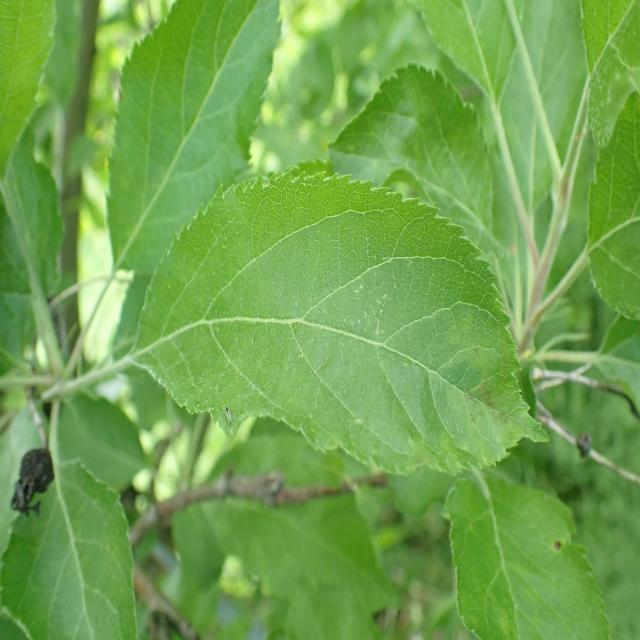scab: (146, 237, 524, 458)
